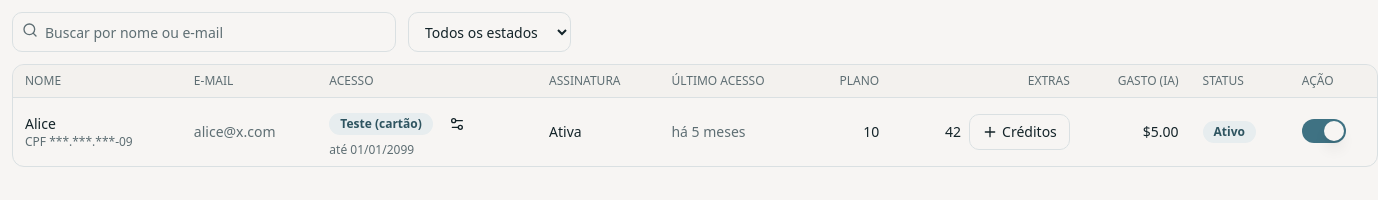
Scenario: UsersTable › badges a live card trial as Teste (cartão) and lists it in the filter
Check: the text with test id "access-u1" reads "Teste (cartão)", box x1=340 y1=115 x2=422 y2=132
Select "Teste (cartão)" in the dropdown named "filtrar por estado" at (490, 32), box x1=408 y1=12 x2=571 y2=52
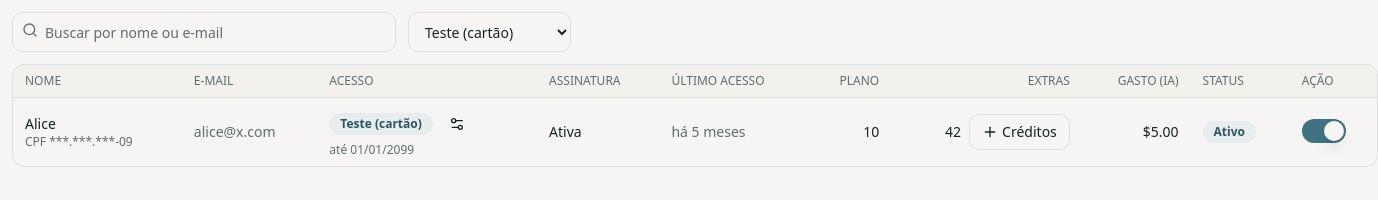
Select "Teste (convite)" in the dropdown named "filtrar por estado" at (490, 32), box x1=408 y1=12 x2=571 y2=52
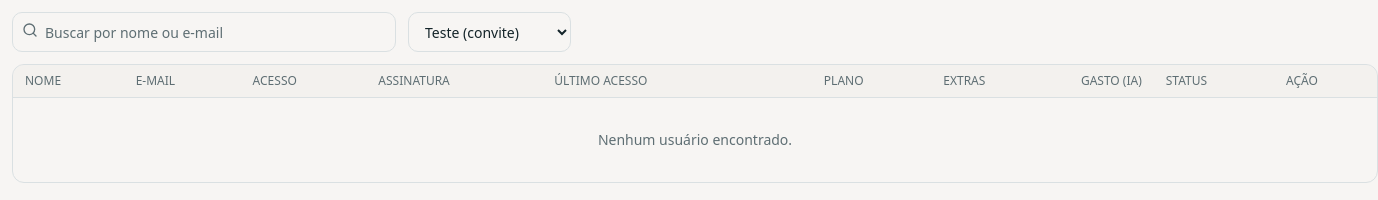
Check: the text "Nenhum usuário encontrado." is shown, box x1=13 y1=98 x2=1377 y2=182
